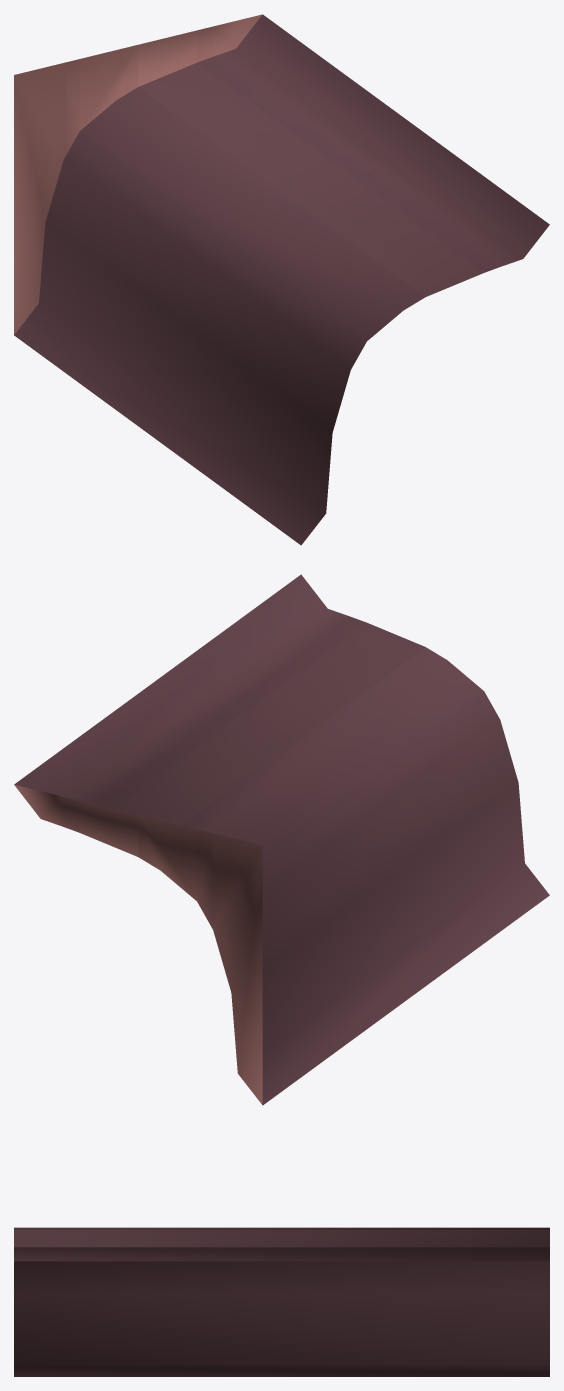
Rendered from SM_CornerPieceR.fbx.
The picture shows the model from 3 angles, top to bottom: view 1: azimuth 30°, elevation 25°; view 2: azimuth 150°, elevation 25°; view 3: azimuth 270°, elevation 25°; orthographic projection. The views are drawn at different scales.
Visible parts, largest first — view 1: Base_FullF.006; view 2: Base_FullF.006; view 3: Base_FullF.006.
Boxes of the visible parts, left/top/right/bottom form: Base_FullF.006: left=14, top=14, right=549, bottom=545; Base_FullF.006: left=14, top=574, right=549, bottom=1105; Base_FullF.006: left=14, top=1227, right=549, bottom=1376.
Bounding box in the file's own units: 100 × 200 × 100.
